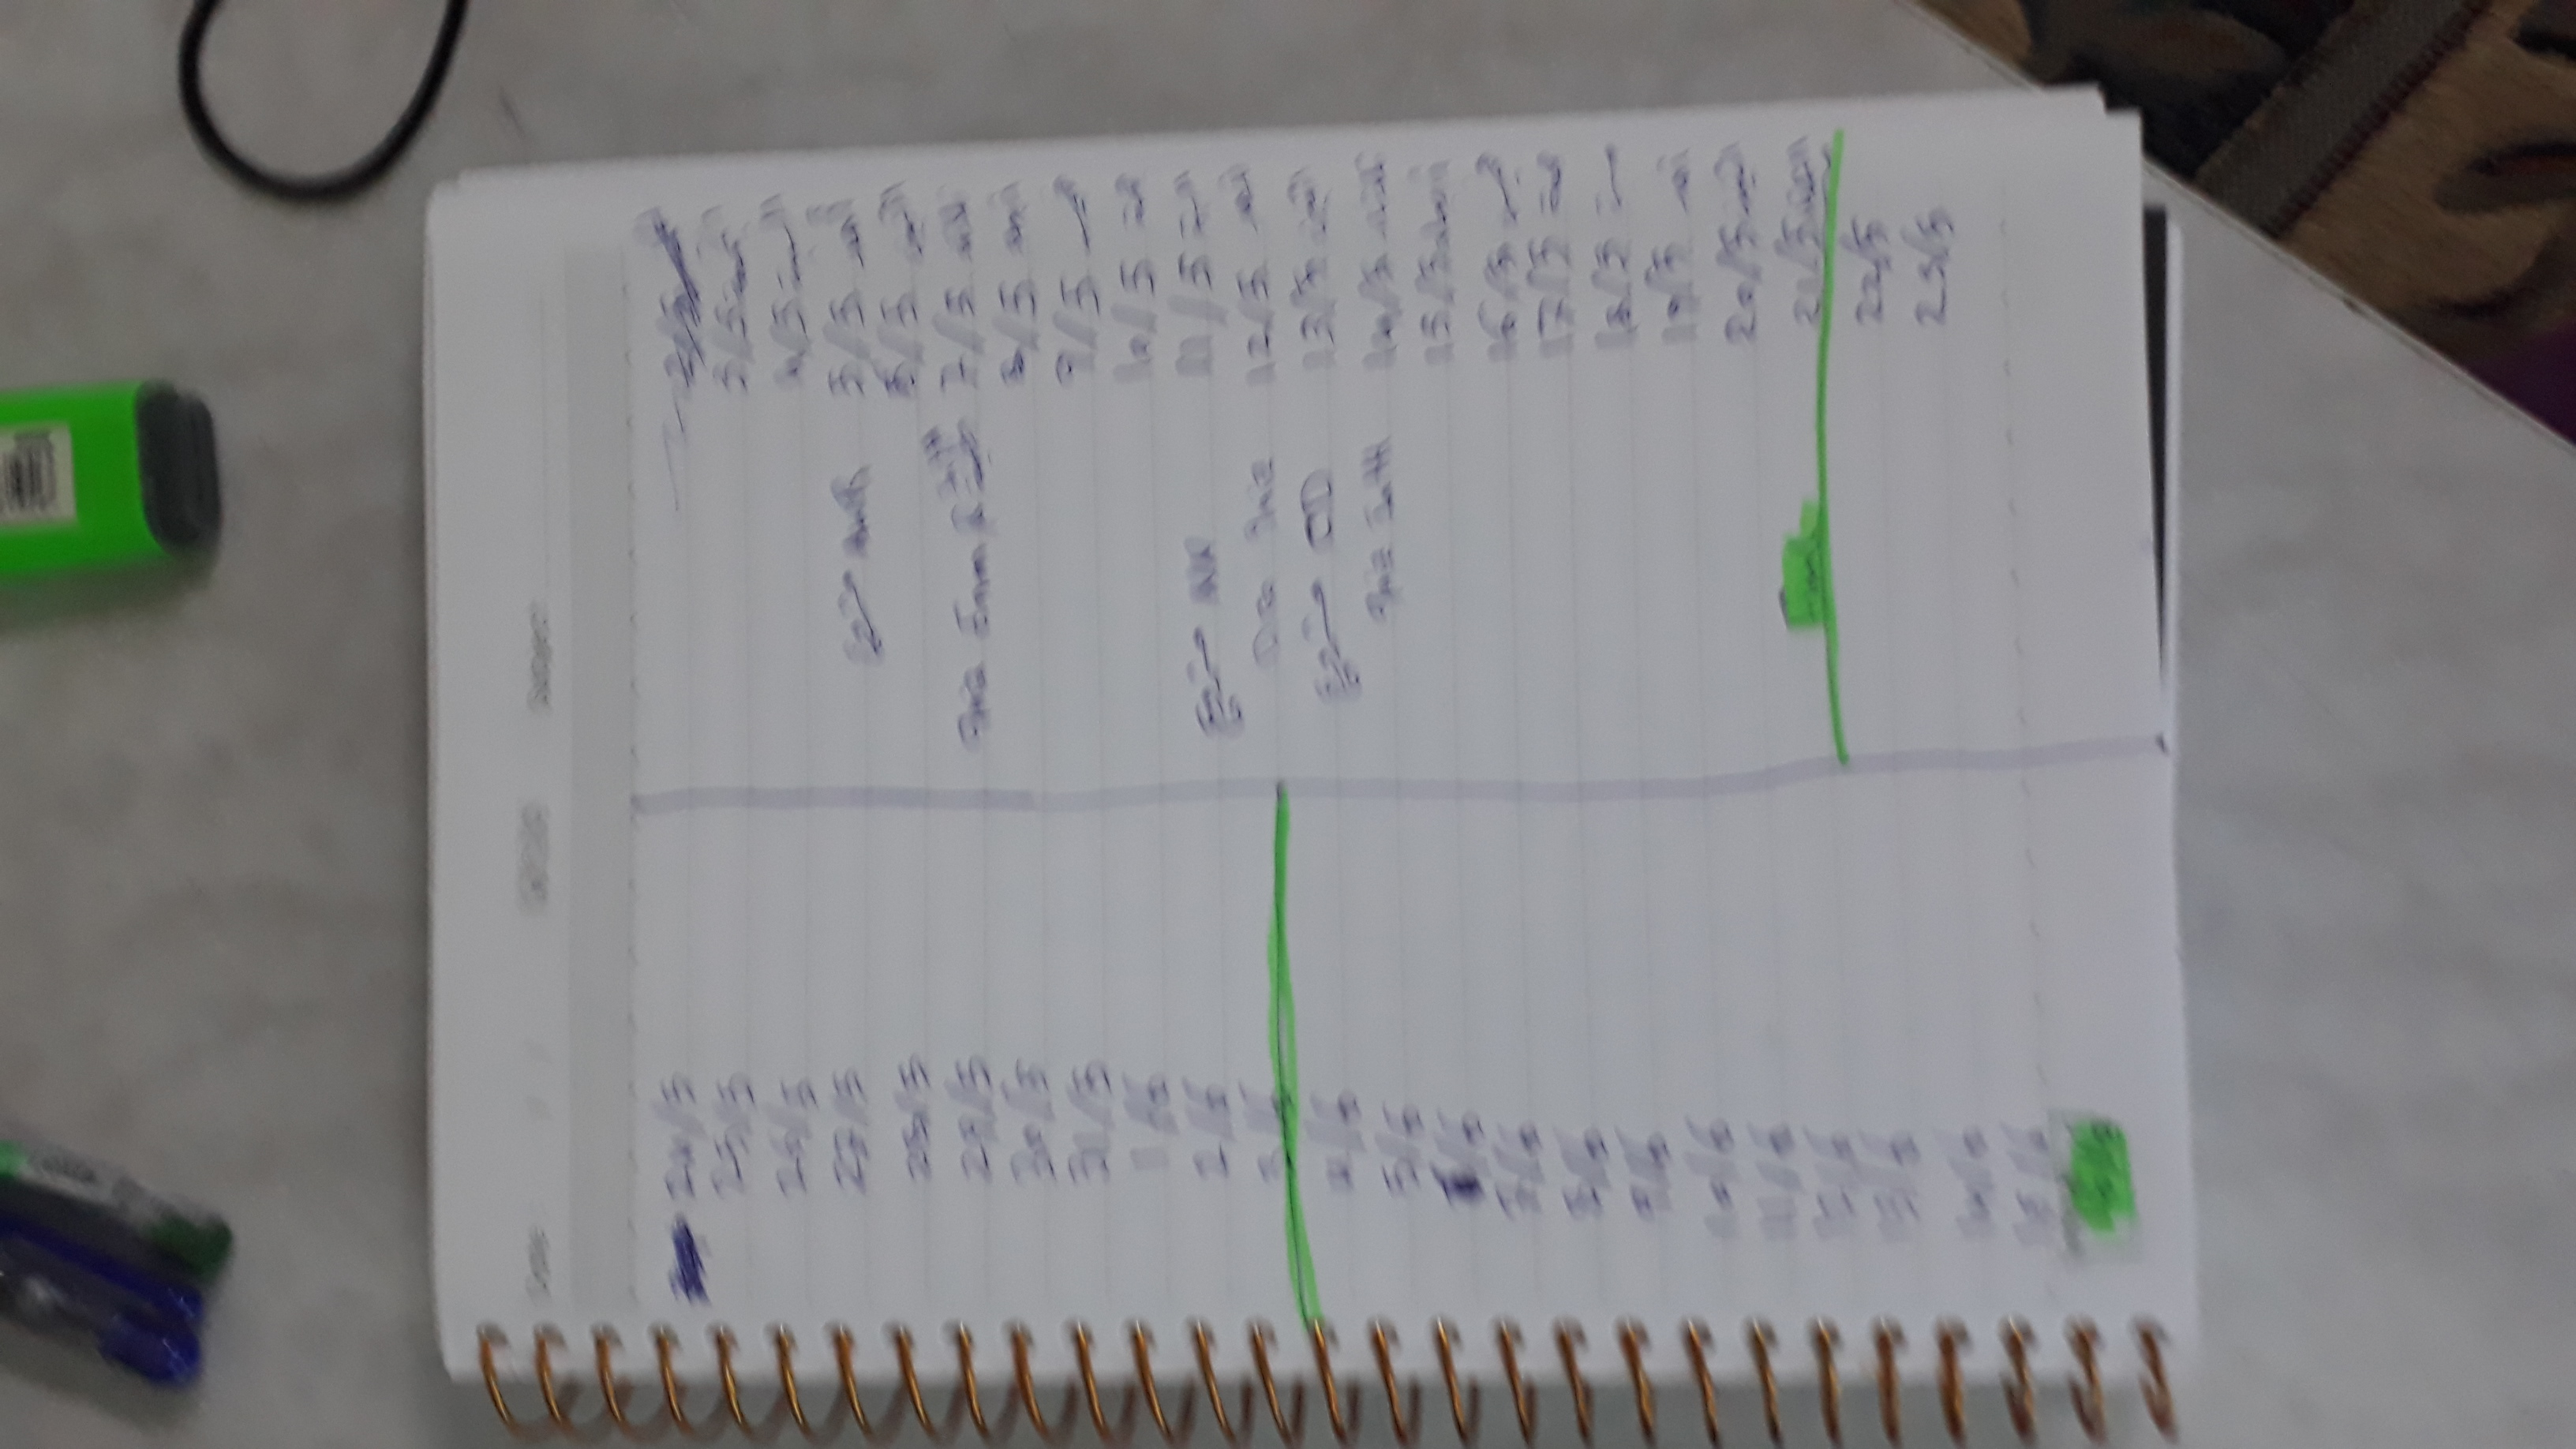dftar: (412, 71, 2231, 1449)
